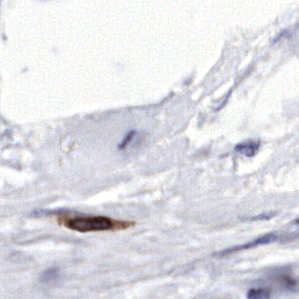Lymphocyte: (60, 211, 136, 234)
